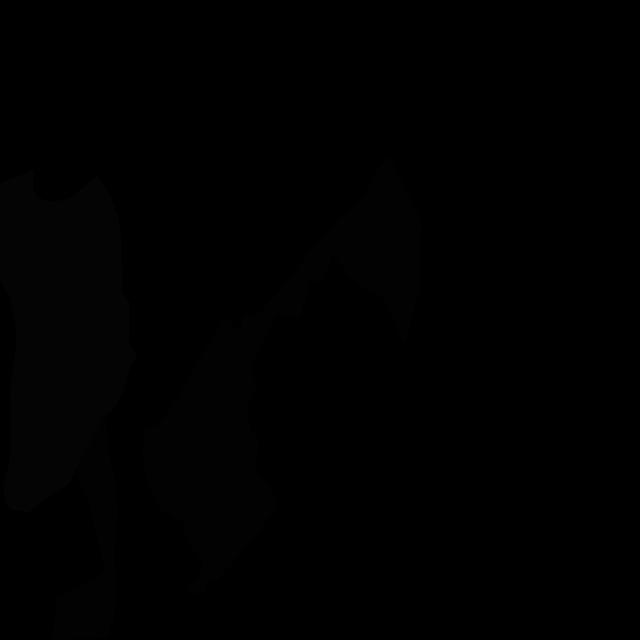cardboard: (142, 156, 421, 594), (46, 416, 118, 640)
soft_plastic: (0, 170, 136, 512)
